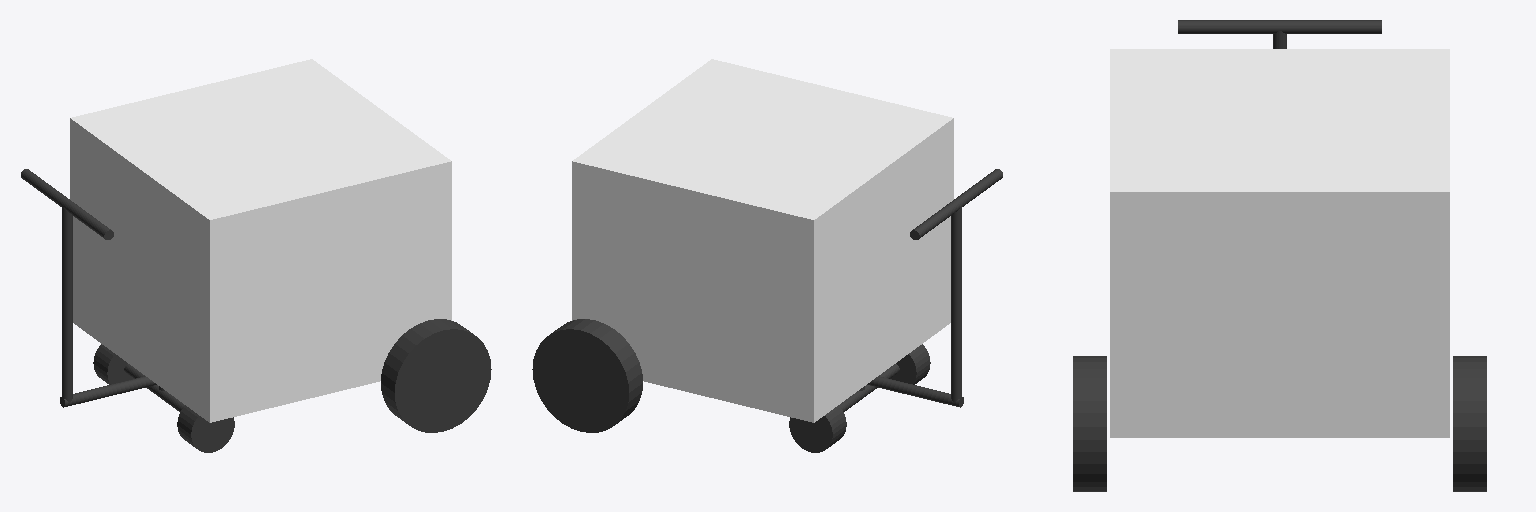
robot.urdf — pole_box:
<?xml version="1.0"?>
<robot name="pole_box">

  <link name="box">
    <contact>
        <lateral_friction value="0.5"/>
        <rolling_friction value="0.0"/>
        <contact_cfm value="0.0"/>
        <contact_erp value="1.0"/>
    </contact>
    <inertial>
        <origin rpy="0 0 0" xyz="0 0 0"/>
        <mass value="30"/>
    </inertial>
    <visual>
        <origin rpy="0 0 0" xyz="0 0 0"/>
        <geometry>
        <box size="1.0 1.0 0.8"/>
        </geometry>
        <material name="slider_mat">
        <color rgba="1.0 1.0 1.0 1"/>
        </material>
    </visual>
    <collision>
        <origin rpy="0 0 0" xyz="0 0 0"/>
        <geometry>
        <box size="1.0 1.0 0.8"/>
        </geometry>
    </collision>
  </link>

  <!-- <link name="link_pole">
    <contact>
      <lateral_friction value="0.5"/>
      <rolling_friction value="0.0"/>
      <contact_cfm value="0.0"/>
      <contact_erp value="1.0"/>
    </contact>
    <inertial>
      <origin rpy="0 0 0" xyz="0 0 0"/>
        <mass value="1"/>
    </inertial>
    <visual>
        <origin rpy="0 0 0" xyz="0 0 0"/>
      <geometry>
        <cylinder length="0.3" radius="0.02"/>
      </geometry>
      <material name="slider_mat">
        <color rgba="0.3 0.3 0.3 1"/>
      </material>
    </visual>
    <collision>
      <origin rpy="0 0 0" xyz="0 0 0"/>
      <geometry>
        <cylinder length="0.3" radius="0.02"/>
      </geometry>
    </collision>
  </link>
  <joint name="box_to_link_pole" type="fixed">
    <parent link="box"/>
    <child link="link_pole"/>
    <origin rpy="0 1.5708 0" xyz="-0.65 0 0.33"/>
  </joint> -->

  <link name="axis_pole">
    <contact>
      <lateral_friction value="0.5"/>
      <rolling_friction value="0.0"/>
      <contact_cfm value="0.0"/>
      <contact_erp value="1.0"/>
    </contact>
    <inertial>
      <origin rpy="0 0 0" xyz="0 0 0"/>
        <mass value="1"/>
    </inertial>
    <visual>
        <origin rpy="0 0 0" xyz="0 0 0"/>
      <geometry>
        <!-- <box size="0.03 8 0.03"/> -->
        <cylinder length="0.088" radius="0.02"/>
      </geometry>
      <material name="slider_mat">
        <color rgba="0.3 0.3 0.3 1"/>
      </material>
    </visual>
    <collision>
      <origin rpy="0 0 0" xyz="0 0 0"/>
      <geometry>
        <!-- <box size="0.03 8 0.03"/>-->
        <cylinder length="0.088" radius="0.02"/>
      </geometry>
    </collision>
  </link>
  <joint name="box_to_axis_pole" type="continuous">
    <parent link="box"/>
    <child link="axis_pole"/>
    <origin rpy="0 0 0" xyz="-0.4 0 -0.445"/>
    <axis xyz="0 0 1"/>
  </joint>

  <link name="axis_link_pole">
    <contact>
      <lateral_friction value="0.5"/>
      <rolling_friction value="0.0"/>
      <contact_cfm value="0.0"/>
      <contact_erp value="1.0"/>
    </contact>
    <inertial>
      <origin rpy="0 0 0" xyz="0 0 0"/>
        <mass value="1"/>
    </inertial>
    <visual>
        <origin rpy="0 0 0" xyz="0 0 0"/>
      <geometry>
        <cylinder length="0.44" radius="0.02"/>
      </geometry>
      <material name="slider_mat">
        <color rgba="0.3 0.3 0.3 1"/>
      </material>
    </visual>
    <collision>
      <origin rpy="0 0 0" xyz="0 0 0"/>
      <geometry>
        <cylinder length="0.44" radius="0.02"/>
      </geometry>
    </collision>
  </link>
  <joint name="axis_pole_to_axis_link_pole" type="fixed">
    <parent link="axis_pole"/>
    <child link="axis_link_pole"/>
    <origin rpy="0 1.5708 0" xyz="-0.2 0 0"/>
  </joint>

  <link name="axis_link_pole2">
    <contact>
      <lateral_friction value="0.5"/>
      <rolling_friction value="0.0"/>
      <contact_cfm value="0.0"/>
      <contact_erp value="1.0"/>
    </contact>
    <inertial>
      <origin rpy="0 0 0" xyz="0 0 0"/>
        <mass value="1"/>
    </inertial>
    <visual>
        <origin rpy="0 0 0" xyz="0 0 0"/>
      <geometry>
        <cylinder length="0.775" radius="0.02"/>
      </geometry>
      <material name="slider_mat">
        <color rgba="0.3 0.3 0.3 1"/>
      </material>
    </visual>
    <collision>
      <origin rpy="0 0 0" xyz="0 0 0"/>
      <geometry>
        <cylinder length="0.775" radius="0.02"/>
      </geometry>
    </collision>
  </link>
  <!-- <joint name="axis_linke_pole_to_axis_link_pole2" type="fixed">
    <parent link="axis_link_pole"/>
    <child link="axis_link_pole2"/>
    <origin rpy="0 1.5708 0" xyz="-0.3875 0 -0.2"/>
  </joint> -->
  <joint name="axis_linke_pole_to_axis_link_pole2" type="continuous">
    <parent link="axis_link_pole"/>
    <child link="axis_link_pole2"/>
    <origin rpy="0 1.5708 0" xyz="-0.3875 0 -0.2"/>
    <axis xyz="0 0 1"/>
  </joint>

  <link name="handle_pole">
    <contact>
      <lateral_friction value="0.5"/>
      <rolling_friction value="0.0"/>
      <contact_cfm value="0.0"/>
      <contact_erp value="1.0"/>
    </contact>
    <inertial>
      <origin rpy="0 0 0" xyz="0 0 0"/>
        <mass value="1"/>
    </inertial>
    <visual>
        <origin rpy="0 0 0" xyz="0 0 0"/>
      <geometry>
        <!-- <box size="0.03 8 0.03"/> -->
        <cylinder length="0.6" radius="0.02"/>
      </geometry>
      <material name="slider_mat">
        <color rgba="0.3 0.3 0.3 1"/>
      </material>
    </visual>
    <collision>
      <origin rpy="0 0 0" xyz="0 0 0"/>
      <geometry>
        <!-- <box size="0.03 8 0.03"/>-->
        <cylinder length="0.6" radius="0.022"/>
      </geometry>
    </collision>
  </link>
  <!-- <joint name="axis_link_pole2_to_handle_pole" type="fixed">
    <parent link="axis_link_pole2"/>
    <child link="handle_pole"/>
    <origin rpy="1.5708 0 0" xyz="0 0 -0.3875"/>
  </joint> -->
  <joint name="axis_link_pole2_to_handle_pole" type="continuous">
    <parent link="axis_link_pole2"/>
    <child link="handle_pole"/>
    <origin rpy="1.5708 0 0" xyz="0 0 -0.3875"/>
    <axis xyz="1 0 0"/>
  </joint>

  <link name="coupling_pole">
    <contact>
      <lateral_friction value="0.5"/>
      <rolling_friction value="0.0"/>
      <contact_cfm value="0.0"/>
      <contact_erp value="1.0"/>
    </contact>
    <inertial>
      <origin rpy="0 0 0" xyz="0 0 0"/>
        <mass value="1"/>
    </inertial>
    <visual>
        <origin rpy="0 0 0" xyz="0 0 0"/>
      <geometry>
        <!-- <box size="0.03 8 0.03"/> -->
        <cylinder length="0.6" radius="0.02"/>
      </geometry>
      <material name="slider_mat">
        <color rgba="0.3 0.3 0.3 1"/>
      </material>
    </visual>
    <collision>
      <origin rpy="0 0 0" xyz="0 0 0"/>
      <geometry>
        <!-- <box size="0.03 8 0.03"/>-->
        <cylinder length="0.6" radius="0.02"/>
      </geometry>
    </collision>
  </link>
  <joint name="axis_pole_to_coupling_pole" type="continuous">
    <parent link="axis_pole"/>
    <child link="coupling_pole"/>
    <origin rpy="1.5708 0 0" xyz="0 0 -0.065"/>
    <axis xyz="0 0 1"/>
  </joint>

  <link name="right_front_wheel">
    <inertial>
      <origin rpy="0 0 0" xyz="0 0 0"/>
        <mass value="5"/>
    </inertial>
    <visual>
        <origin rpy="0 0 0" xyz="0 0 0"/>
      <geometry>
        <!-- <box size="0.03 8 0.03"/> -->
        <cylinder length="0.1" radius="0.09"/>
      </geometry>
      <material name="slider_mat">
        <color rgba="0.3 0.3 0.3 1"/>
      </material>
    </visual>
    <collision>
      <origin rpy="0 0 0" xyz="0 0 0"/>
      <geometry>
        <!-- <box size="0.03 8 0.03"/>-->
        <cylinder length="0.1" radius="0.09"/>
      </geometry>
    </collision>
  </link>
  <joint name="coupling_pole_to_right_front_wheel" type="fixed">
    <parent link="coupling_pole"/>
    <child link="right_front_wheel"/>
    <origin rpy="0 0 0" xyz="0 0 -0.3"/>
  </joint>

  <link name="right_rear_wheel">
    <inertial>
      <origin rpy="0 0 0" xyz="0 0 0"/>
        <mass value="5"/>
    </inertial>
    <visual>
        <origin rpy="0 0 0" xyz="0 0 0"/>
      <geometry>
        <!-- <box size="0.03 8 0.03"/> -->
        <cylinder length="0.1" radius="0.2"/>
      </geometry>
      <material name="slider_mat">
        <color rgba="0.3 0.3 0.3 1"/>
      </material>
    </visual>
    <collision>
      <origin rpy="0 0 0" xyz="0 0 0"/>
      <geometry>
        <!-- <box size="0.03 8 0.03"/>-->
        <cylinder length="0.1" radius="0.2"/>
      </geometry>
    </collision>
  </link>
  <joint name="box_to_right_rear_wheel" type="continuous">
    <parent link="box"/>
    <child link="right_rear_wheel"/>
    <origin rpy="1.5708 0 0" xyz="0.4 0.56 -0.4"/>
    <axis xyz="0 0 1"/>
  </joint>

  <link name="left_front_wheel">
    <inertial>
      <origin rpy="0 0 0" xyz="0 0 0"/>
        <mass value="5"/>
    </inertial>
    <visual>
        <origin rpy="0 0 0" xyz="0 0 0"/>
      <geometry>
        <!-- <box size="0.03 8 0.03"/> -->
        <cylinder length="0.1" radius="0.09"/>
      </geometry>
      <material name="slider_mat">
        <color rgba="0.3 0.3 0.3 1"/>
      </material>
    </visual>
    <collision>
      <origin rpy="0 0 0" xyz="0 0 0"/>
      <geometry>
        <!-- <box size="0.03 8 0.03"/>-->
        <cylinder length="0.1" radius="0.09"/>
      </geometry>
    </collision>
  </link>
  <joint name="coupling_pole_to_left_front_wheel" type="fixed">
    <parent link="coupling_pole"/>
    <child link="left_front_wheel"/>
    <origin rpy="0 0 0" xyz="0 0 0.3"/>
  </joint>

  <link name="left_rear_wheel">
    <inertial>
      <origin rpy="0 0 0" xyz="0 0 0"/>
        <mass value="5"/>
    </inertial>
    <visual>
        <origin rpy="0 0 0" xyz="0 0 0"/>
      <geometry>
        <!-- <box size="0.03 8 0.03"/> -->
        <cylinder length="0.1" radius="0.2"/>
      </geometry>
      <material name="slider_mat">
        <color rgba="0.3 0.3 0.3 1"/>
      </material>
    </visual>
    <collision>
      <origin rpy="0 0 0" xyz="0 0 0"/>
      <geometry>
        <!-- <box size="0.03 8 0.03"/>-->
        <cylinder length="0.1" radius="0.2"/>
      </geometry>
    </collision>
  </link>
  <joint name="box_to_left_rear_wheel" type="continuous">
    <parent link="box"/>
    <child link="left_rear_wheel"/>
    <origin rpy="1.5708 0 0" xyz="0.4 -0.56 -0.4"/>
    <axis xyz="0 0 1"/>
  </joint>

  

</robot>

--- Facts derived from the render (not from the file) ---
3 views of the same robot in one strip: view 1: azimuth 30°, elevation 25°; view 2: azimuth 150°, elevation 25°; view 3: azimuth 270°, elevation 25° (orthographic).
Model pole_box with 10 links and 9 joints (6 continuous, 3 fixed), rooted at box, posed every joint at zero.
Links seen in each view (by area): view 1: box, left_rear_wheel, axis_link_pole2, left_front_wheel, handle_pole, axis_link_pole, right_front_wheel; view 2: box, right_rear_wheel, axis_link_pole2, right_front_wheel, handle_pole, axis_link_pole, left_front_wheel; view 3: box, right_rear_wheel, left_rear_wheel, handle_pole.
Link boxes in pixels (<box>): box: <box>70,59,451,422</box>; left_rear_wheel: <box>381,319,491,432</box>; axis_link_pole2: <box>62,206,72,402</box>; left_front_wheel: <box>177,405,234,452</box>; handle_pole: <box>21,169,113,239</box>; axis_link_pole: <box>60,376,156,407</box>; right_front_wheel: <box>93,344,133,384</box>; box: <box>572,59,953,422</box>; right_rear_wheel: <box>532,319,642,432</box>; axis_link_pole2: <box>951,206,961,402</box>; right_front_wheel: <box>789,405,846,452</box>; handle_pole: <box>910,169,1002,239</box>; axis_link_pole: <box>867,376,963,407</box>; left_front_wheel: <box>890,344,930,384</box>; box: <box>1110,49,1449,437</box>; right_rear_wheel: <box>1453,356,1486,491</box>; left_rear_wheel: <box>1073,356,1106,491</box>; handle_pole: <box>1178,20,1381,33</box>.
Bounding box of the posed robot: 1.42 × 1.22 × 1 m (x, y, z).
Geometry: primitives only (box / cylinder / sphere), no mesh files.